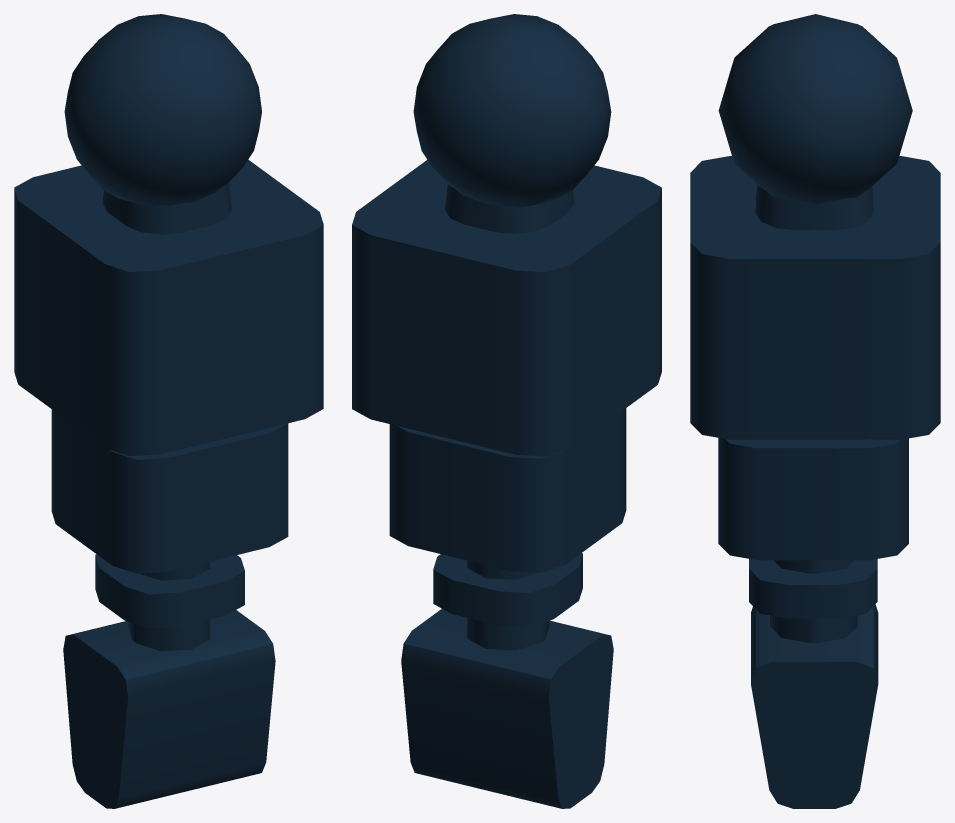
Rendered from JugadorAzul.fbx.
3 renders of one model, left to right at view 1: azimuth 30°, elevation 25°; view 2: azimuth 150°, elevation 25°; view 3: azimuth 270°, elevation 25°, orthographic.
Visible parts, largest first — view 1: polySurface305.024; view 2: polySurface305.024; view 3: polySurface305.024.
Boxes of the visible parts, bbox=[...] form: polySurface305.024: bbox=[14, 14, 323, 808]; polySurface305.024: bbox=[352, 14, 661, 808]; polySurface305.024: bbox=[690, 14, 940, 808].
Size of the model in its own units: 2.68 by 9.09 by 2.75.
